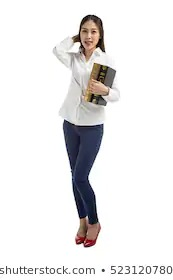S_blouse: (47, 36, 121, 126)
